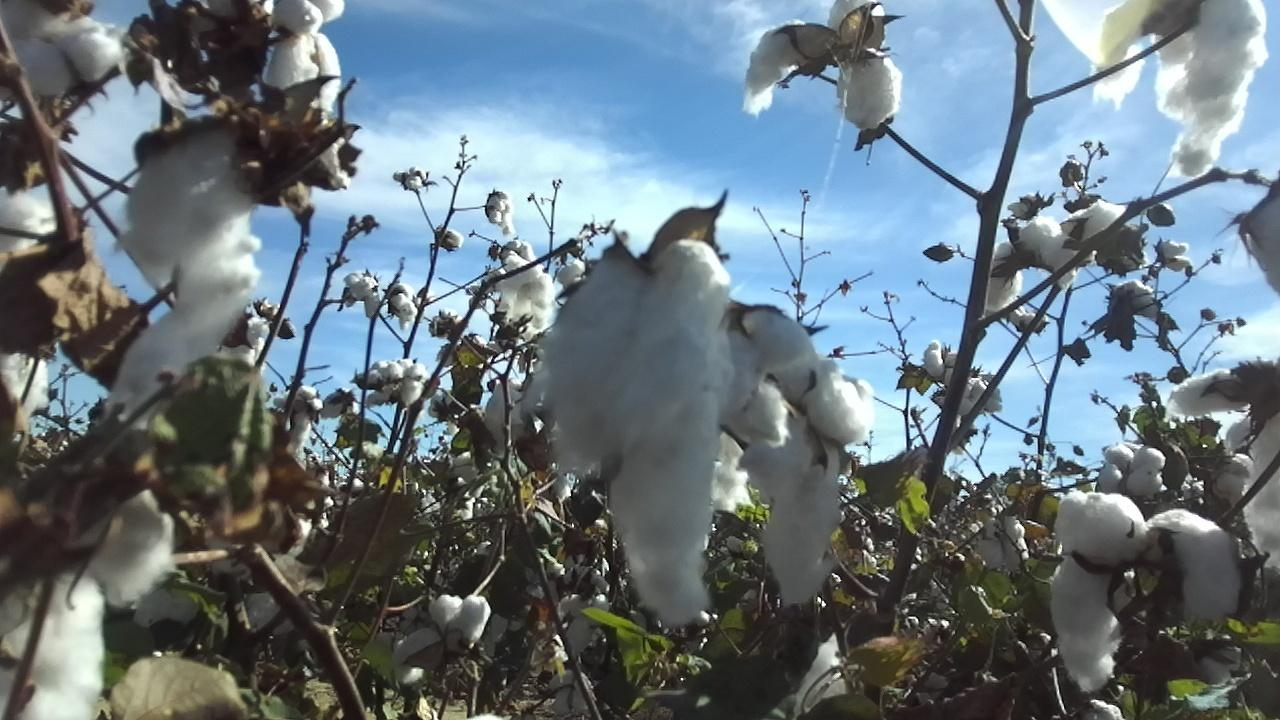cotton_ready: (537, 237, 734, 626), (724, 301, 874, 608), (118, 121, 260, 418), (1054, 491, 1235, 691), (1090, 0, 1267, 184), (744, 0, 905, 129), (0, 574, 108, 720), (0, 0, 118, 97), (1225, 408, 1280, 576), (96, 493, 175, 608), (269, 0, 347, 112), (1020, 216, 1089, 282), (1169, 364, 1243, 420), (501, 257, 553, 332), (434, 594, 493, 647), (1101, 446, 1165, 493), (983, 238, 1022, 313), (1067, 200, 1122, 242)
